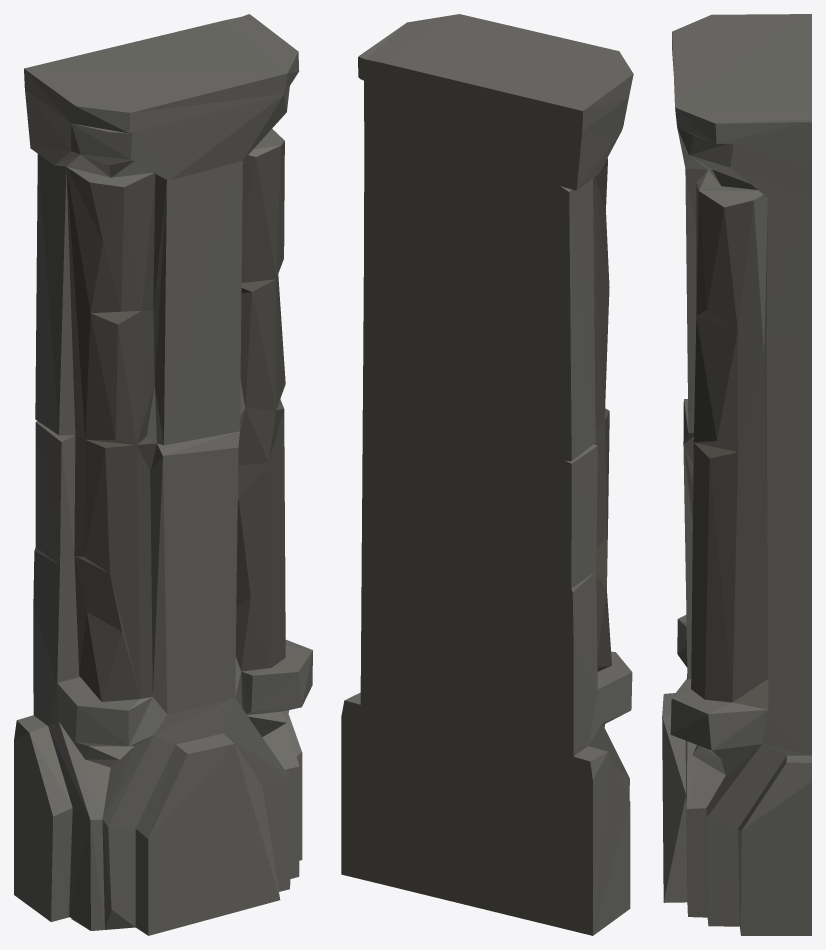
File: MDungeon_PillarSmall_Mid_Half.FBX
3 views of the same model, side by side, from view 1: azimuth 30°, elevation 25°; view 2: azimuth 150°, elevation 25°; view 3: azimuth 270°, elevation 25° (orthographic). The views are drawn at different scales.
Visible parts, largest first — view 1: MDungeon_PillarSmall_Mid_Half_LOD0; view 2: MDungeon_PillarSmall_Mid_Half_LOD0; view 3: MDungeon_PillarSmall_Mid_Half_LOD0.
Boxes of the visible parts, x1,y1,x2,y2 form: MDungeon_PillarSmall_Mid_Half_LOD0: [14, 14, 312, 935]; MDungeon_PillarSmall_Mid_Half_LOD0: [341, 14, 633, 935]; MDungeon_PillarSmall_Mid_Half_LOD0: [662, 14, 811, 935].
Size of what is drawn, in the model's own units: 1.61 by 5.02 by 0.8449.
